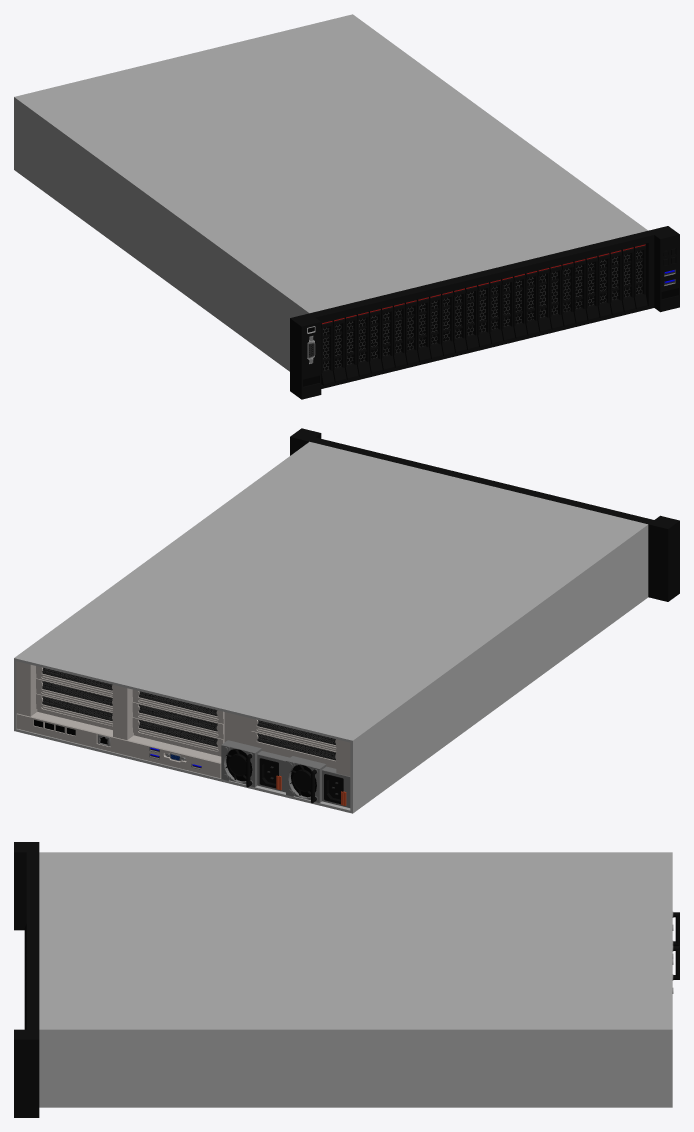
The model's file is Lenovo_SR650.fbx.
3 views of the same model, one above another, from view 1: azimuth 30°, elevation 25°; view 2: azimuth 150°, elevation 25°; view 3: azimuth 270°, elevation 25° (orthographic). The views are drawn at different scales.
Visible parts, largest first — view 1: Lenovo_SR650; view 2: Lenovo_SR650; view 3: Lenovo_SR650.
Part boxes in pixels (x1,y1,x2,y2): Lenovo_SR650: (14, 14, 679, 399); Lenovo_SR650: (14, 428, 679, 813); Lenovo_SR650: (14, 842, 679, 1117).
Size of the model in its own units: 483 by 89 by 688.
Materials: 13 (2 with a texture image).
